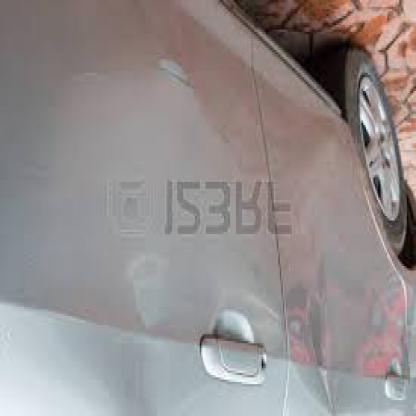dent: (294, 277, 341, 414), (122, 254, 174, 344), (157, 46, 202, 89)
